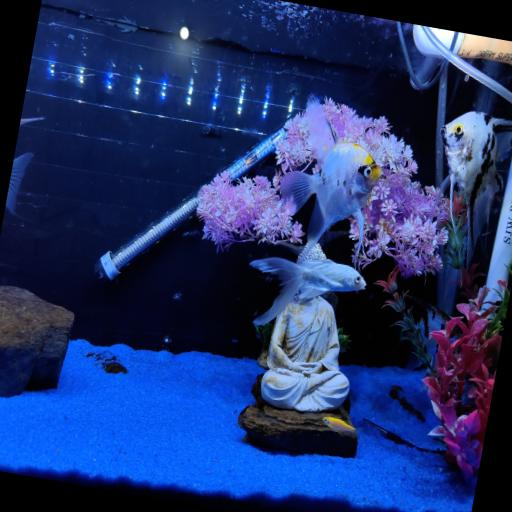Fish: (281, 96, 382, 263), (440, 112, 511, 266), (251, 257, 365, 325), (5, 153, 33, 215), (323, 417, 356, 435)
